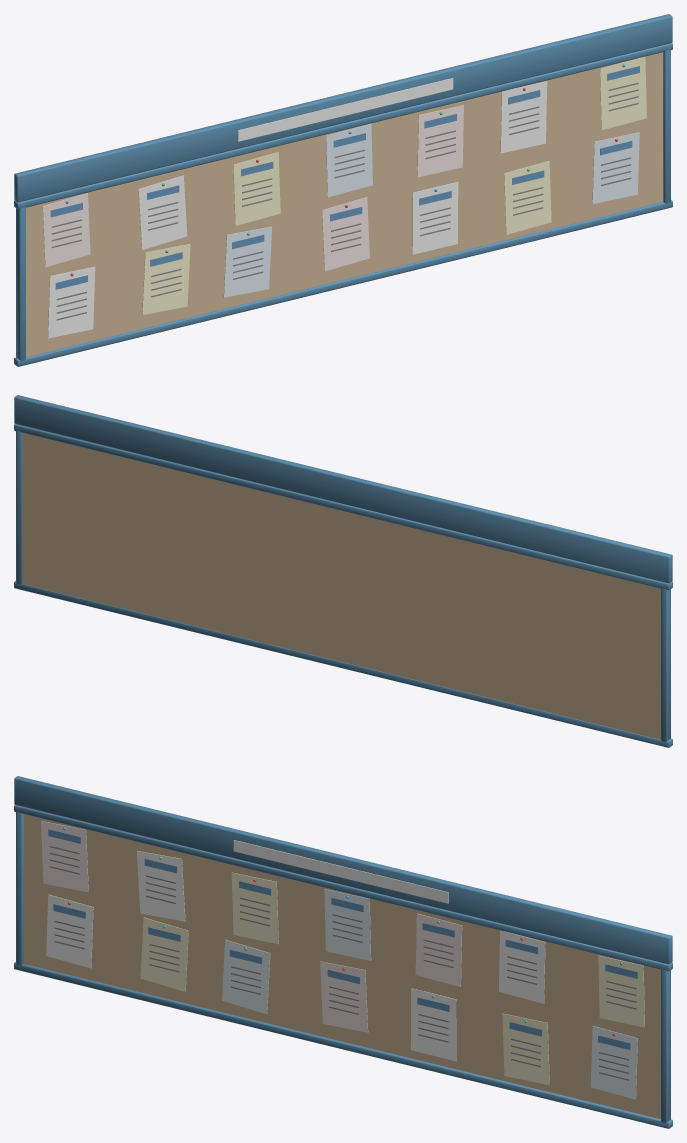
The model's file is notice_board.glb.
The picture shows the model from 3 angles, top to bottom: view 1: azimuth 30°, elevation 25°; view 2: azimuth 150°, elevation 25°; view 3: azimuth 330°, elevation 25°; orthographic projection.
Parts seen in each view (by area): view 1: Cube, Cube.005, Cube.001, Cube.002, Cube.006, Cube.031, Cube.013, Cube.067, Cube.073, Cube.085, Cube.019, Cube.049 (+9 smaller); view 2: Cube, Cube.005, Cube.002, Cube.001, Cube.003, Cube.004; view 3: Cube, Cube.005, Cube.001, Cube.002, Cube.006, Cube.013, Cube.031, Cube.067, Cube.085, Cube.055, Cube.049, Cube.079 (+9 smaller).
Part boxes in pixels (left/top/right/bottom): Cube: left=26, top=52, right=663, bottom=357; Cube.005: left=14, top=14, right=672, bottom=202; Cube.001: left=14, top=200, right=672, bottom=366; Cube.002: left=14, top=43, right=672, bottom=209; Cube.006: left=238, top=78, right=453, bottom=141; Cube.031: left=412, top=182, right=458, bottom=254; Cube.013: left=142, top=244, right=190, bottom=314; Cube.067: left=326, top=123, right=372, bottom=197; Cube.073: left=417, top=105, right=463, bottom=177; Cube.085: left=600, top=56, right=646, bottom=130; Cube.019: left=223, top=226, right=271, bottom=297; Cube.049: left=42, top=193, right=90, bottom=267; Cube: left=22, top=433, right=660, bottom=739; Cube.005: left=14, top=395, right=672, bottom=583; Cube.002: left=14, top=424, right=672, bottom=590; Cube.001: left=14, top=581, right=672, bottom=747; Cube.003: left=661, top=582, right=670, bottom=741; Cube.004: left=16, top=425, right=22, bottom=589; Cube: left=23, top=814, right=660, bottom=1119; Cube.005: left=14, top=776, right=672, bottom=964; Cube.001: left=14, top=962, right=672, bottom=1128; Cube.002: left=14, top=805, right=672, bottom=971; Cube.006: left=233, top=840, right=448, bottom=903; Cube.013: left=140, top=917, right=188, bottom=991; Cube.031: left=410, top=988, right=456, bottom=1061; Cube.067: left=324, top=889, right=371, bottom=960; Cube.085: left=598, top=955, right=644, bottom=1027; Cube.055: left=136, top=851, right=185, bottom=921; Cube.049: left=41, top=821, right=88, bottom=892; Cube.079: left=498, top=930, right=545, bottom=1003.
Bounding box in the file's own units: 6.1 × 1.7 × 0.0725.
